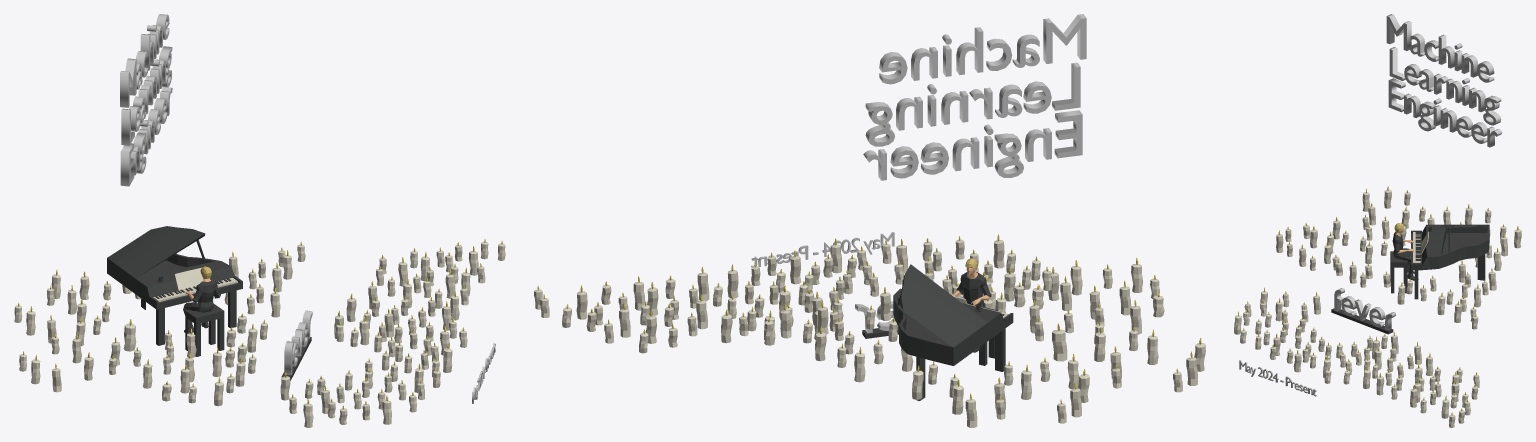
File: candle.glb
3 views of the same model, side by side, from view 1: azimuth 30°, elevation 25°; view 2: azimuth 150°, elevation 25°; view 3: azimuth 270°, elevation 25° (orthographic). The views are drawn at different scales.
Visible parts, largest first — view 1: Cube.003, Text, Cube.001, male, Text.002; view 2: Text, Cube.003, male, Text.001; view 3: Text, Cube.003, Text.002, male, Text.001, Cube.001, Cube.
Part boxes in pixels (x1,y1,x2,y2): Cube.003: (107, 226, 242, 345); Text: (120, 14, 172, 186); Cube.001: (185, 304, 224, 356); male: (183, 266, 220, 332); Text.002: (284, 310, 312, 375); Text: (863, 14, 1086, 180); Cube.003: (893, 264, 1013, 400); male: (951, 258, 991, 352); Text.001: (751, 232, 894, 267); Text: (1386, 14, 1502, 147); Cube.003: (1411, 224, 1489, 299); Text.002: (1334, 288, 1395, 330); male: (1392, 223, 1418, 280); Text.001: (1239, 360, 1316, 396); Cube.001: (1390, 251, 1407, 293); Cube: (1331, 308, 1393, 334).
Bounding box in the file's own units: 7.47 × 4.55 × 4.58.
